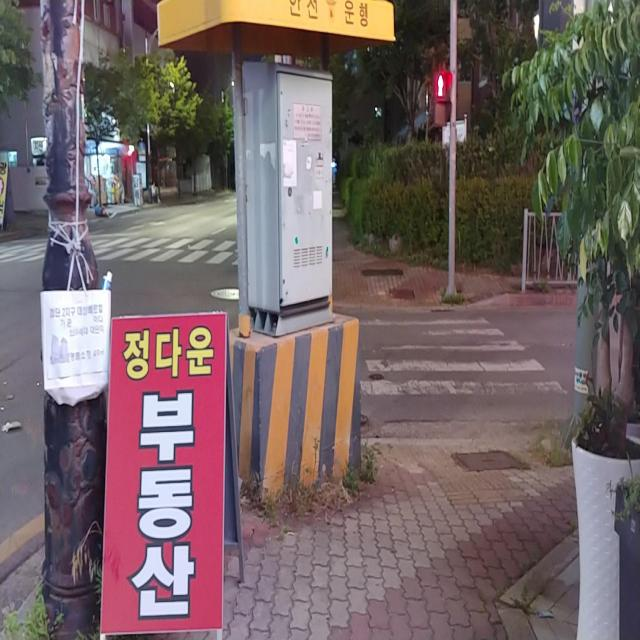빨간불: (432, 66, 454, 130)
횡단보도: (358, 314, 569, 399), (102, 231, 238, 268), (0, 236, 47, 267)
